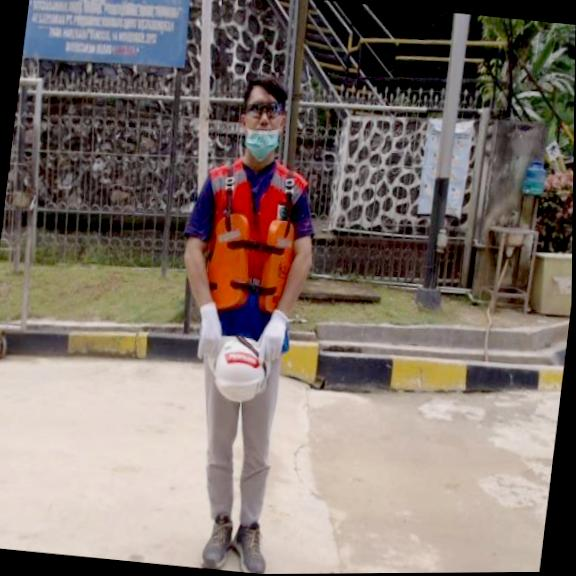safety_vest: (204, 209, 294, 311)
